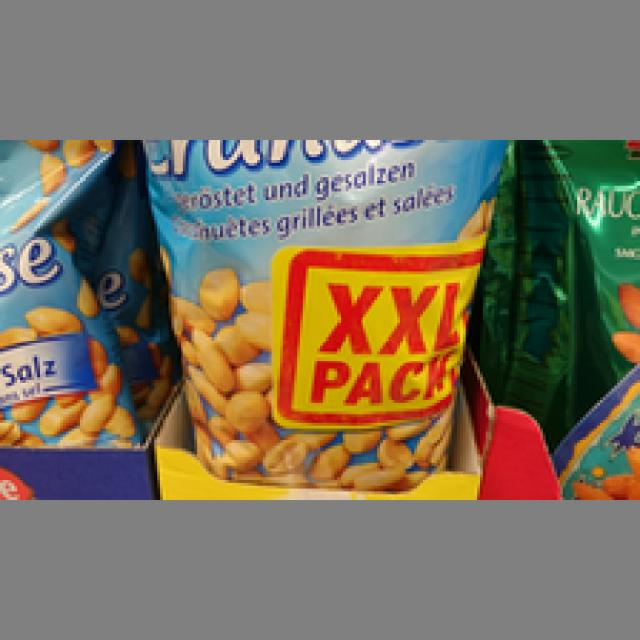groceries: (140, 137, 509, 489)
